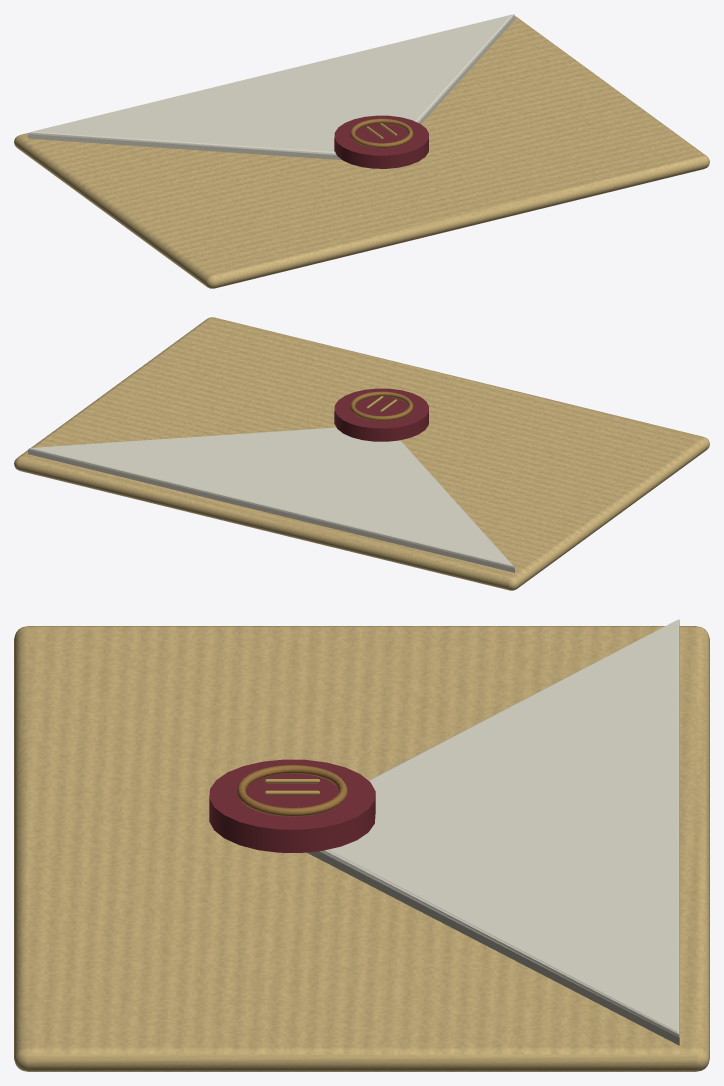
The model's file is sealed-letter.glb.
3 renders of one model, top to bottom at view 1: azimuth 30°, elevation 25°; view 2: azimuth 150°, elevation 25°; view 3: azimuth 270°, elevation 25°, orthographic. The views are drawn at different scales.
Parts seen in each view (by area): view 1: sealed-letter; view 2: sealed-letter; view 3: sealed-letter.
Part boxes in pixels (x1,y1,x2,y2): sealed-letter: (14, 14, 709, 288); sealed-letter: (14, 317, 709, 590); sealed-letter: (14, 619, 709, 1071).
Size of the model in its own units: 0.22 by 0.018 by 0.15.
5 materials, 1 textured.
